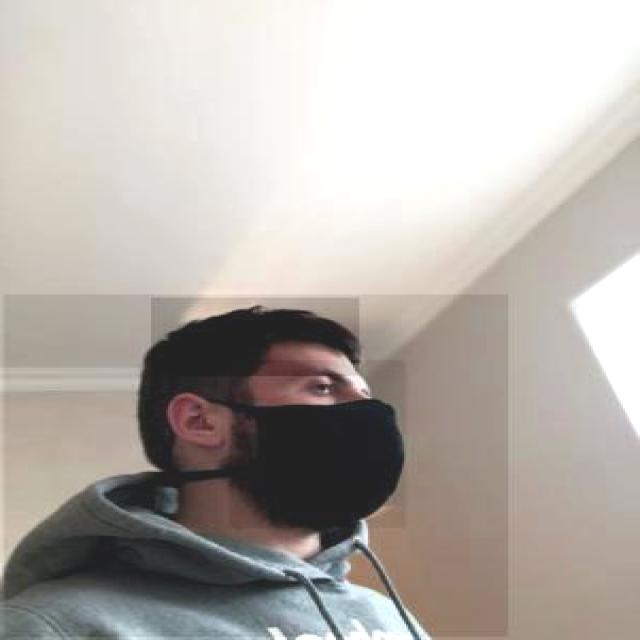face_mask: (230, 360, 406, 528)
head_nohelmet: (151, 298, 359, 376)
person: (2, 294, 508, 638)
